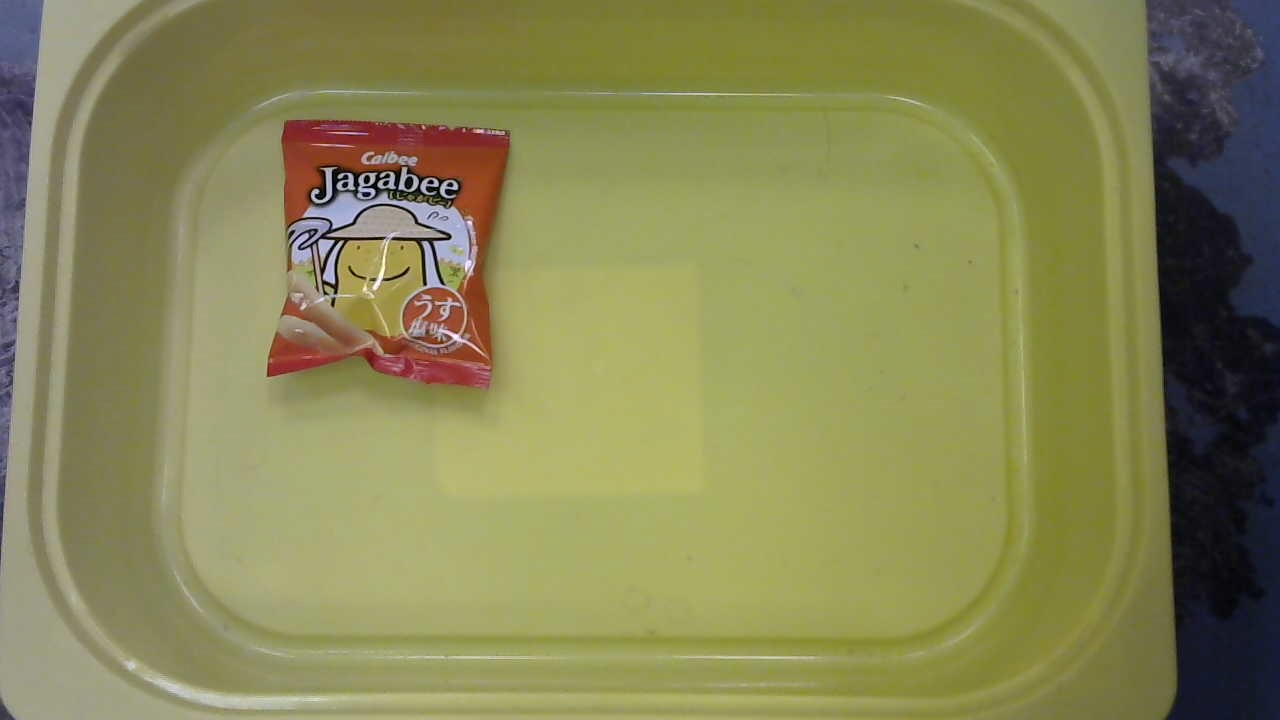JagabeeFarmer: (260, 109, 514, 401)
